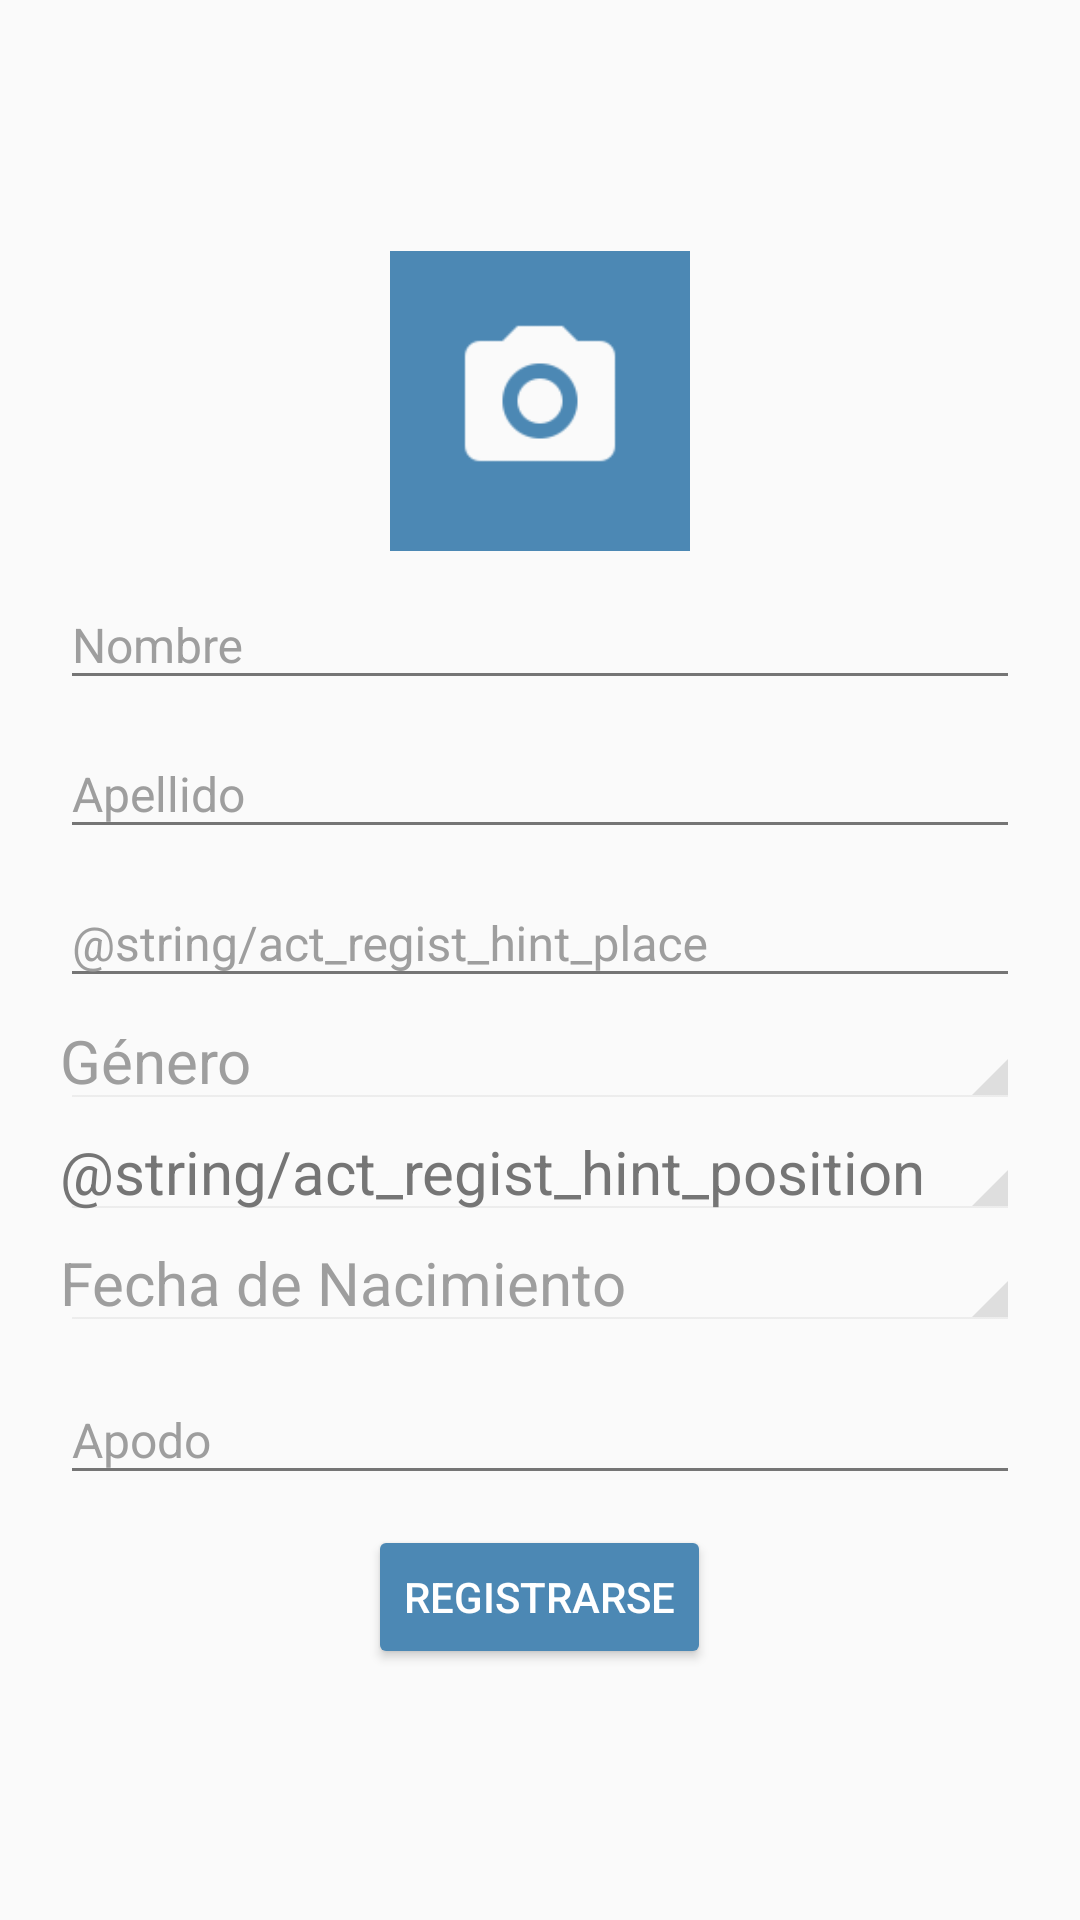

Screen size 1080 x 1920. Icon name, then its center in pixels as [x,y]:
camera: [540,401]
